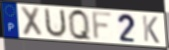2: (116, 12, 139, 45)
F: (91, 11, 115, 42)
K: (141, 15, 160, 45)
Q: (67, 8, 93, 43)
U: (44, 7, 68, 39)
X: (19, 5, 44, 38)
